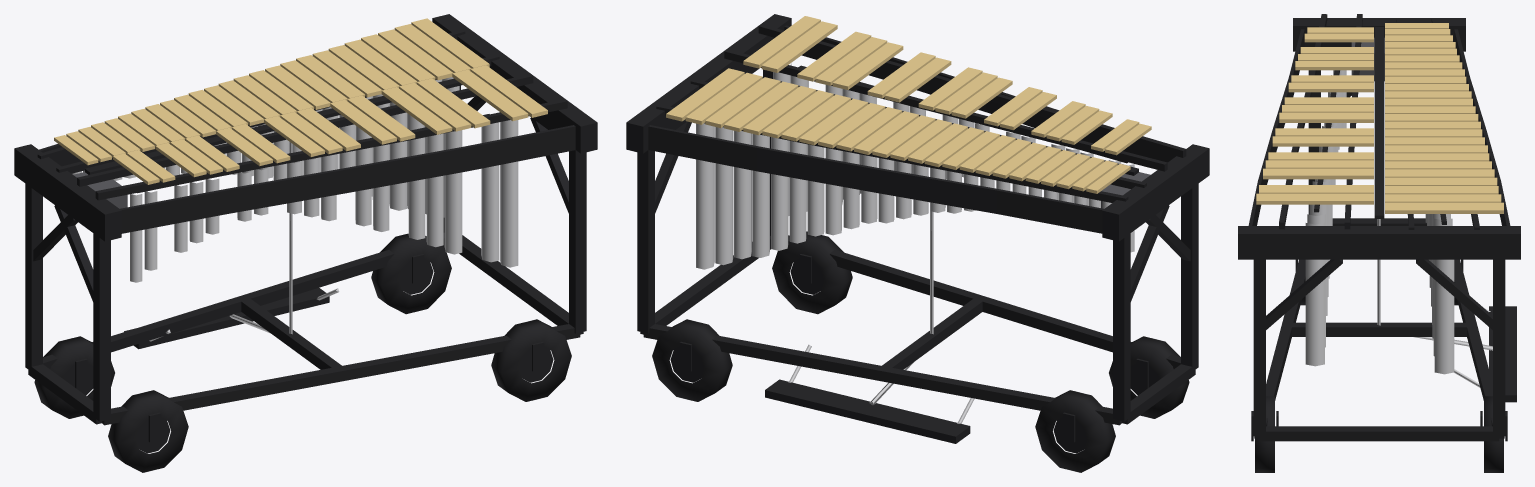
The model's file is vibraphone-3.5-gold-low.glb.
3 views of the same model, side by side, from view 1: azimuth 30°, elevation 25°; view 2: azimuth 150°, elevation 25°; view 3: azimuth 270°, elevation 25° (orthographic). The views are drawn at different scales.
Parts seen in each view (by area): view 1: frame, bars-gold, resonators-silver, artwork, metal; view 2: frame, bars-gold, resonators-silver, metal; view 3: frame, bars-gold, resonators-silver, metal.
Part boxes in pixels (<box>): frame: <box>14,14,597,472</box>; bars-gold: <box>54,18,547,184</box>; resonators-silver: <box>72,77,518,282</box>; artwork: <box>121,126,575,233</box>; metal: <box>149,142,339,341</box>; frame: <box>626,14,1209,472</box>; bars-gold: <box>666,16,1151,193</box>; resonators-silver: <box>696,63,1134,269</box>; metal: <box>788,167,974,423</box>; frame: <box>1238,14,1520,472</box>; bars-gold: <box>1256,23,1503,213</box>; resonators-silver: <box>1305,70,1454,374</box>; metal: <box>1377,219,1492,387</box>.
Bounding box in the file's own units: 1.65 × 0.9719 × 0.9144.
